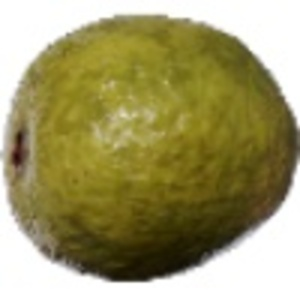goiaba: (3, 11, 295, 282)
